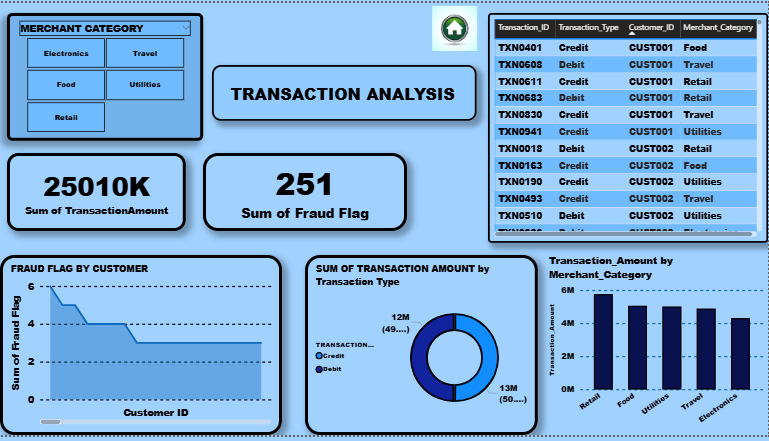

This screenshot's page, from the dashboard's own definition file:
{"tool":"powerbi","page":{"name":"TRANSACTION","canvas":[1280,720],"ordinal":3},"visuals":[{"type":"clusteredColumnChart","fields":{"Category":["Transactions.Merchant_Category"],"Y":["Sum(Transactions.Transaction_Amount)"]},"box":[910,416.7,370,303.3],"z":0},{"type":"donutChart","fields":{"Category":["Transactions.Transaction_Type"],"Y":["Sum(Transactions.Transaction_Amount)"]},"box":[508.3,420,388.3,300],"z":1000},{"type":"areaChart","title":"FRAUD FLAG BY CUSTOMER","fields":{"Category":["Transactions.Customer_ID"],"Y":["Sum(Transactions.Fraud_Flag)"]},"box":[0,420,470,300],"z":2000},{"type":"card","fields":{"Values":["Sum(Transactions.Transaction_Amount)"]},"box":[11.7,250,298.3,130],"z":3000},{"type":"card","fields":{"Values":["Sum(Transactions.Fraud_Flag)"]},"box":[338.3,250,340,130],"z":4000},{"type":"slicer","fields":{"Values":["Transactions.Merchant_Category"]},"box":[11.7,16.7,326.7,213.3],"z":5000},{"type":"tableEx","fields":{"Values":["Transactions.Transaction_ID","Transactions.Transaction_Type","Transactions.Customer_ID","Transactions.Merchant_Category"]},"box":[813.3,16.7,466.7,383.3],"z":6000},{"type":"textbox","box":[353.8,102.5,441.2,92.5],"z":7000},{"type":"image","box":[702.5,0,108.8,85],"z":7001}]}

Visuals, with their boxes in screenshot pixels (x1, y1, x2, y2), scaled from the page's 1280x720 canvas onto the 769x441 screenshot:
clusteredColumnChart - Transactions.Merchant_Category x Sum(Transactions.Transaction_Amount): 547 255 768 440
donutChart - Transactions.Transaction_Type x Sum(Transactions.Transaction_Amount): 305 257 539 440
"FRAUD FLAG BY CUSTOMER" areaChart: 0 257 282 440
card - Sum(Transactions.Transaction_Amount): 7 153 186 233
card - Sum(Transactions.Fraud_Flag): 203 153 408 233
slicer - Transactions.Merchant_Category: 7 10 203 141
tableEx - Transactions.Transaction_ID x Transactions.Transaction_Type: 489 10 768 245
textbox: 213 63 478 119
image: 422 0 487 52
